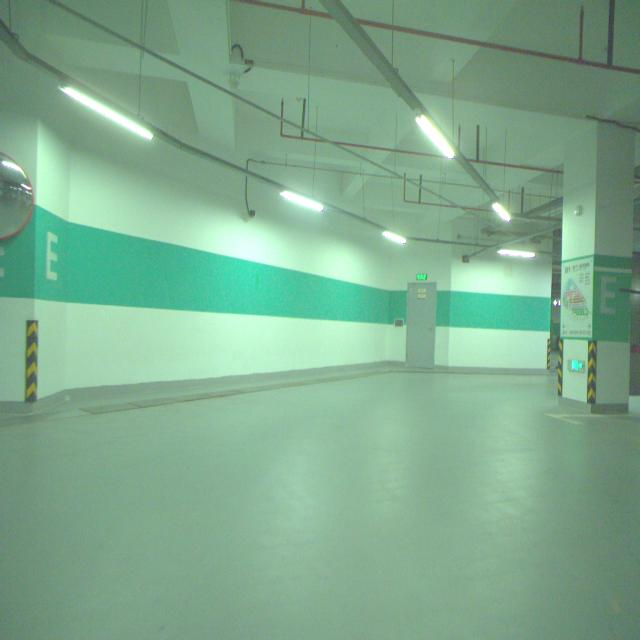pillar: (560, 122, 635, 412)
